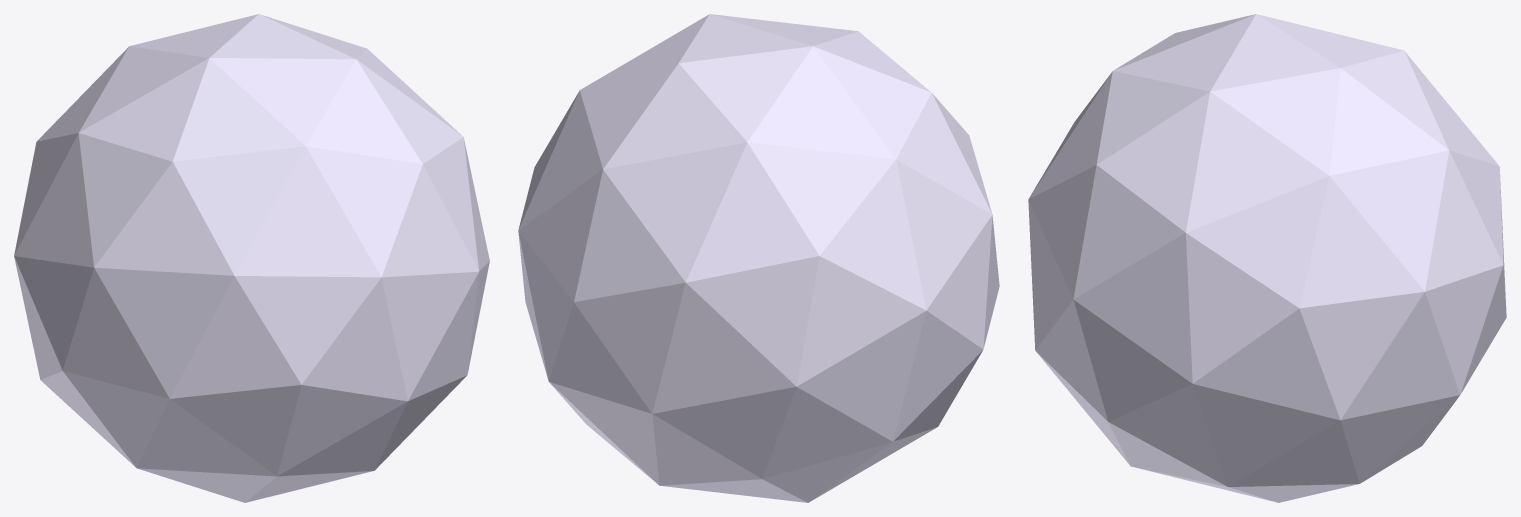
The model's file is pn_moon_03.gltf.
3 renders of one model, left to right at view 1: azimuth 30°, elevation 25°; view 2: azimuth 150°, elevation 25°; view 3: azimuth 270°, elevation 25°, orthographic.
Parts seen in each view (by area): view 1: moon_03; view 2: moon_03; view 3: moon_03.
Boxes of the visible parts, x1,y1,x2,y2 form: moon_03: (14,14,489,502); moon_03: (518,14,999,502); moon_03: (1028,14,1506,502).
Size of the model in its own units: 0.2044 by 0.2062 by 0.2026.
